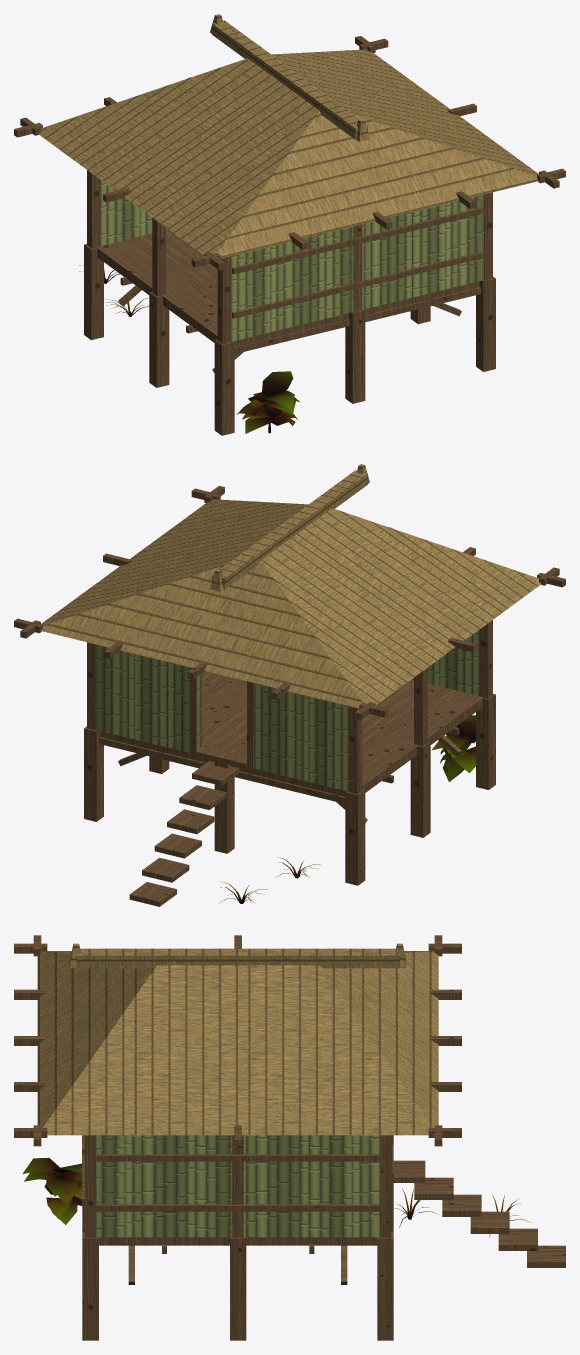
File: nha_san_02.glb
3 views of the same model, one above another, from view 1: azimuth 30°, elevation 25°; view 2: azimuth 150°, elevation 25°; view 3: azimuth 270°, elevation 25° (orthographic). The views are drawn at different scales.
Visible parts, largest first — view 1: nha_san_02, nha_san_02_veg_00_bush_b; view 2: nha_san_02, nha_san_02_veg_00_bush_b; view 3: nha_san_02, nha_san_02_veg_00_bush_b.
Boxes of the visible parts, box(x1,y1,x2,y2) form: nha_san_02: box(14, 14, 565, 435); nha_san_02_veg_00_bush_b: box(236, 371, 300, 433); nha_san_02: box(14, 464, 565, 906); nha_san_02_veg_00_bush_b: box(431, 715, 475, 781); nha_san_02: box(14, 935, 565, 1340); nha_san_02_veg_00_bush_b: box(22, 1158, 82, 1224).
Bounding box in the file's own units: 7.65 × 5.64 × 8.74.
5 materials, 5 textured.
